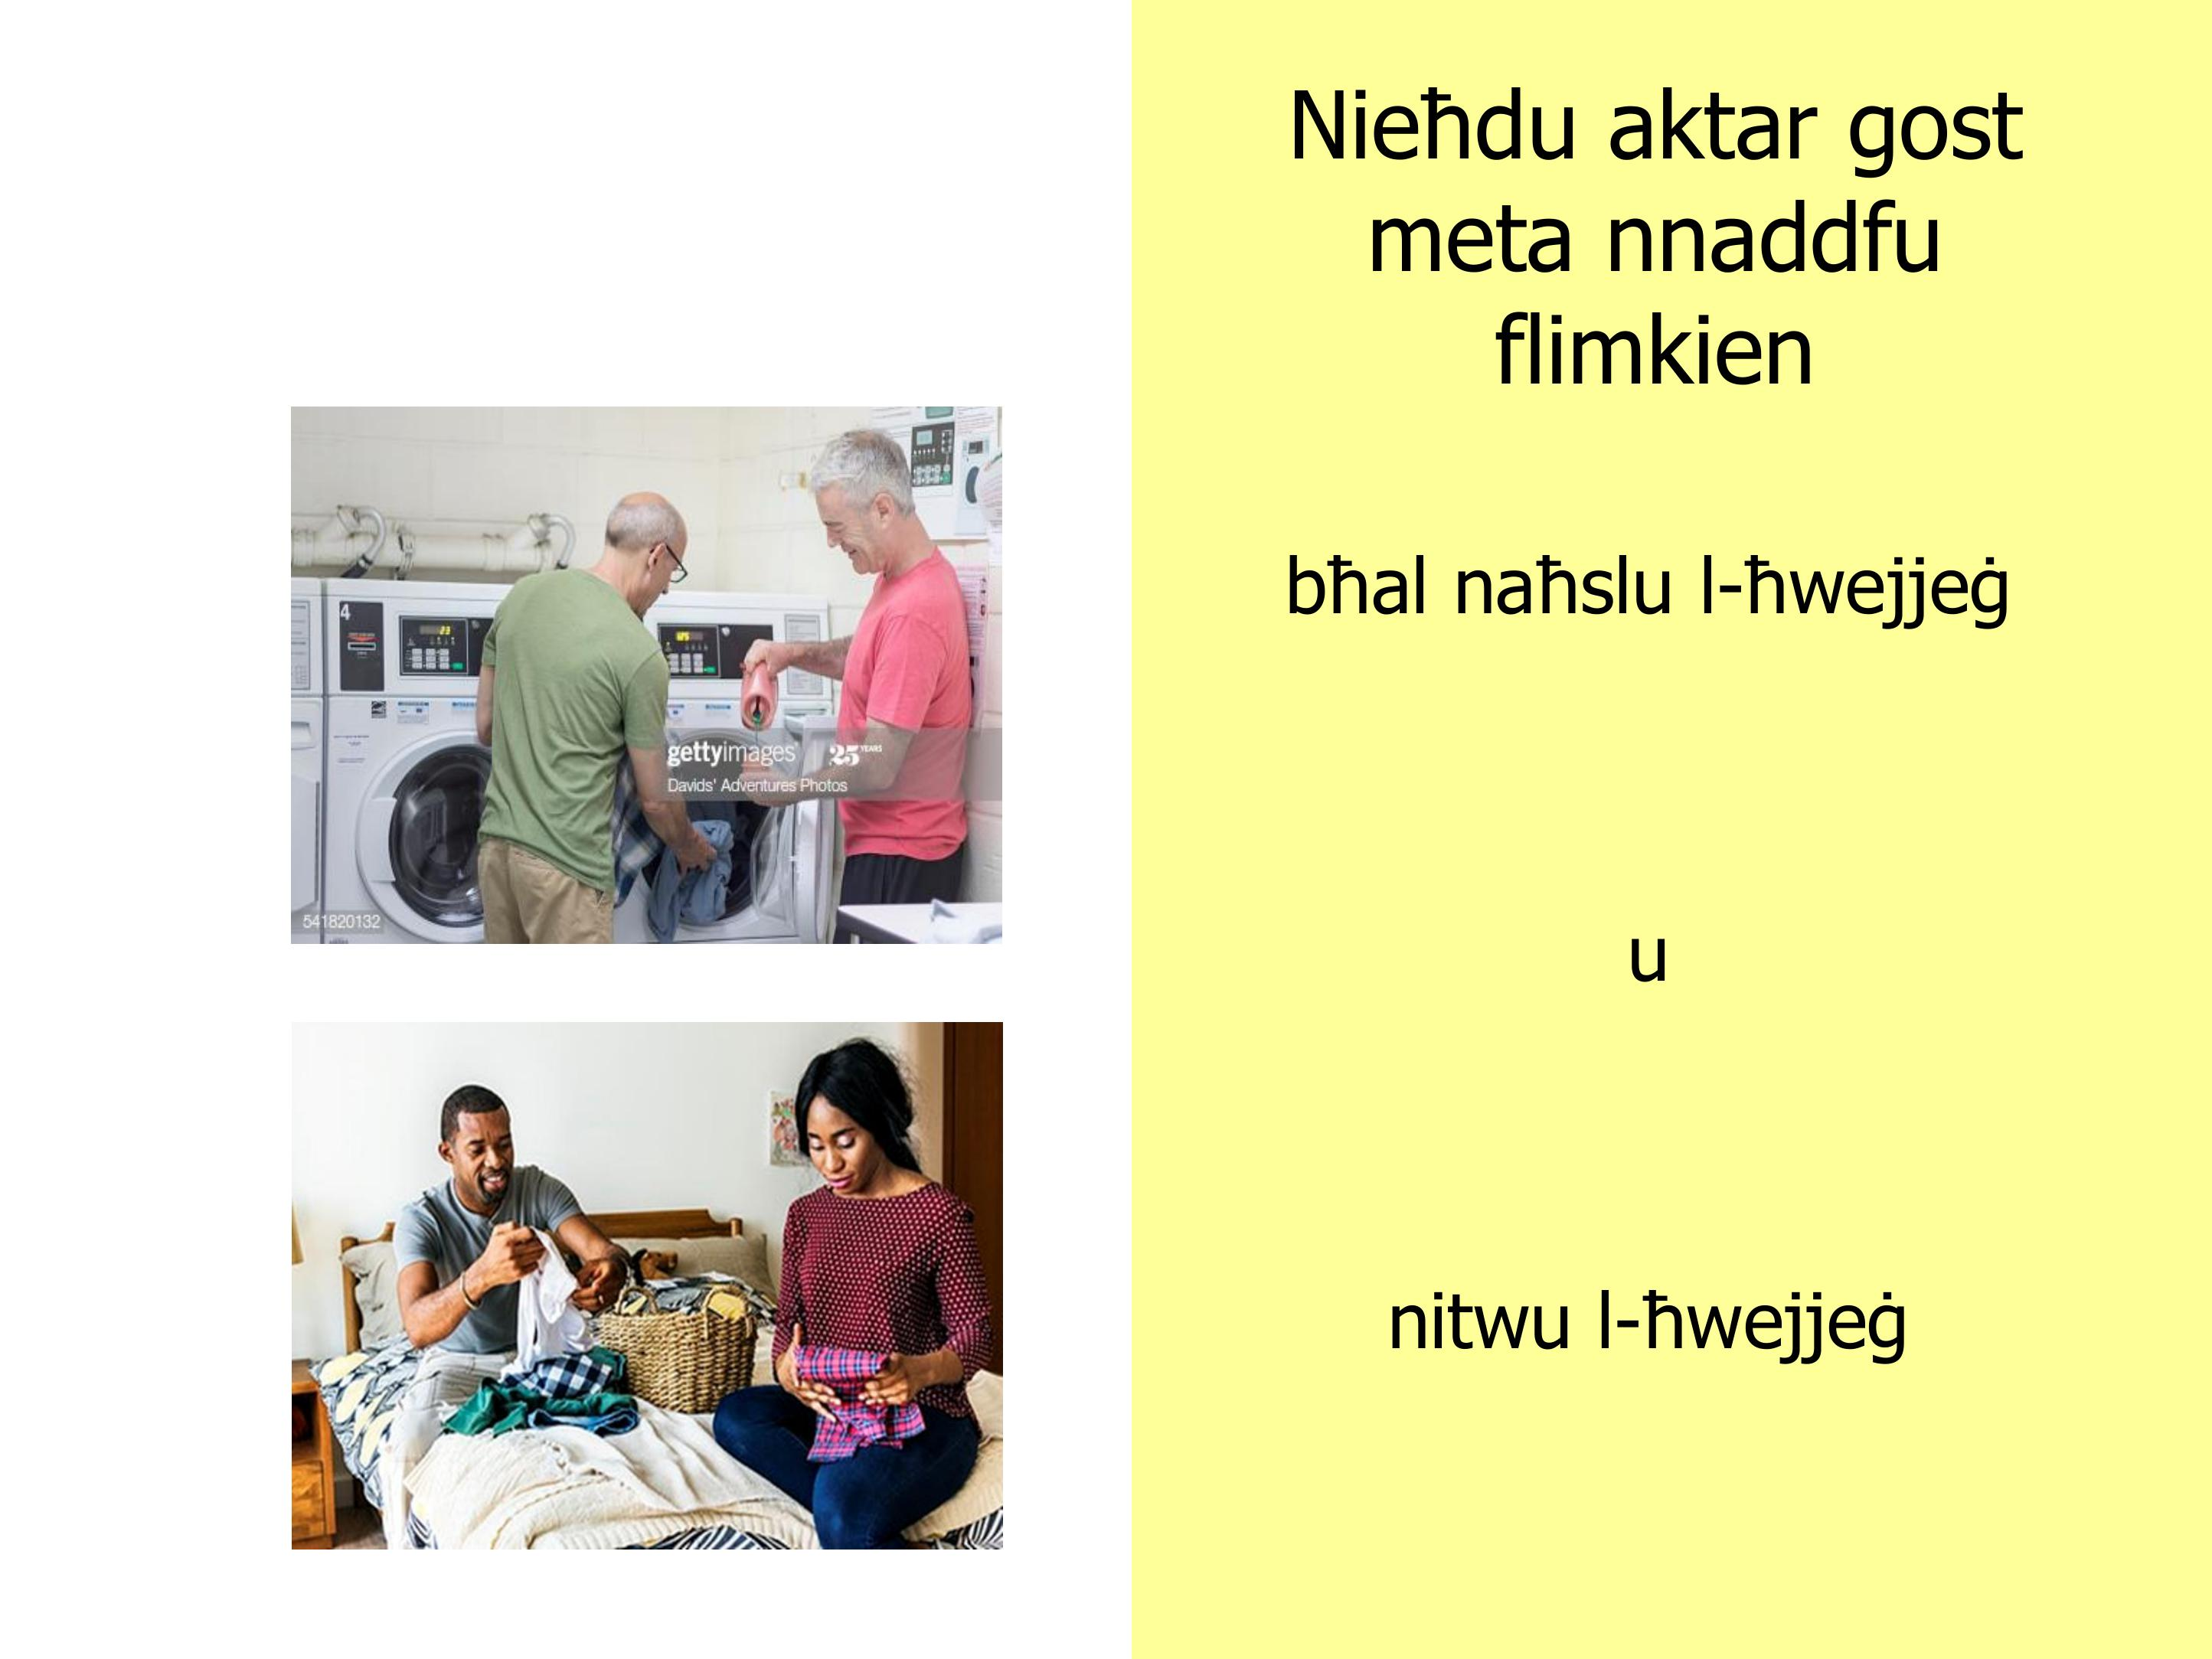text: (1238, 51, 2085, 1401)
